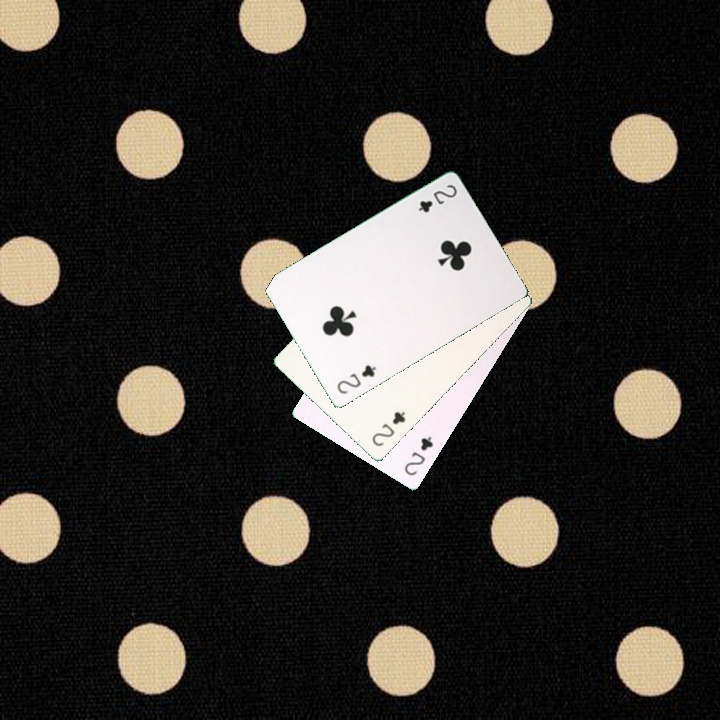2c: (368, 407, 408, 449), (400, 432, 436, 478), (333, 361, 379, 397), (414, 180, 460, 215)
